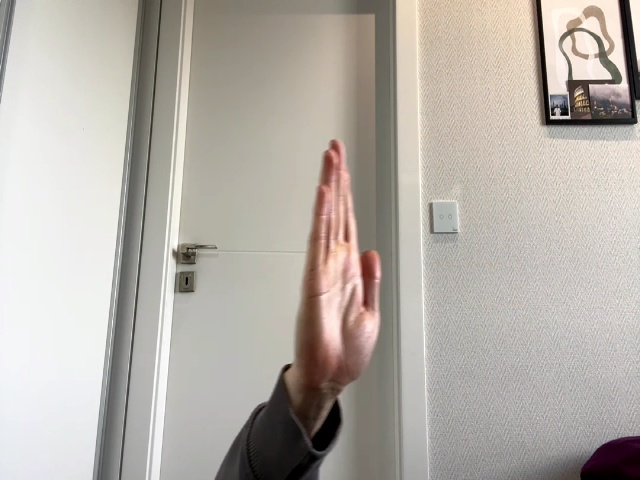SZ: (293, 139, 381, 394)
